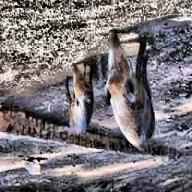boar: (104, 31, 155, 152), (64, 61, 95, 136)
